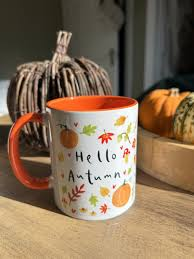mug: (1, 87, 154, 227)
